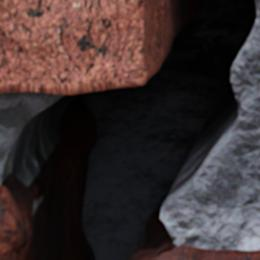brick: (0, 0, 147, 94)
broken_brick: (0, 185, 30, 259), (154, 244, 259, 259)
crack: (0, 0, 259, 259)
